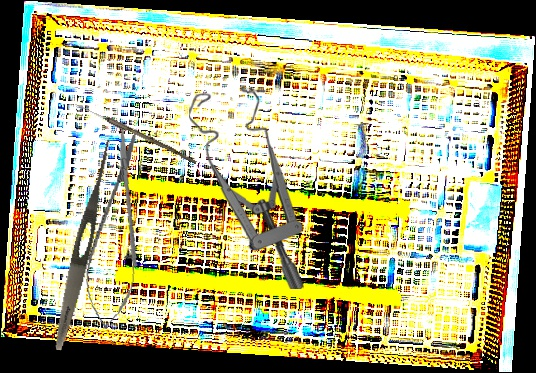Dressing Forceps: (49, 135, 117, 353)
Micro Scissor: (78, 123, 156, 333)
Speculum: (185, 86, 308, 290)
Surgical Spoon: (74, 101, 198, 165)
